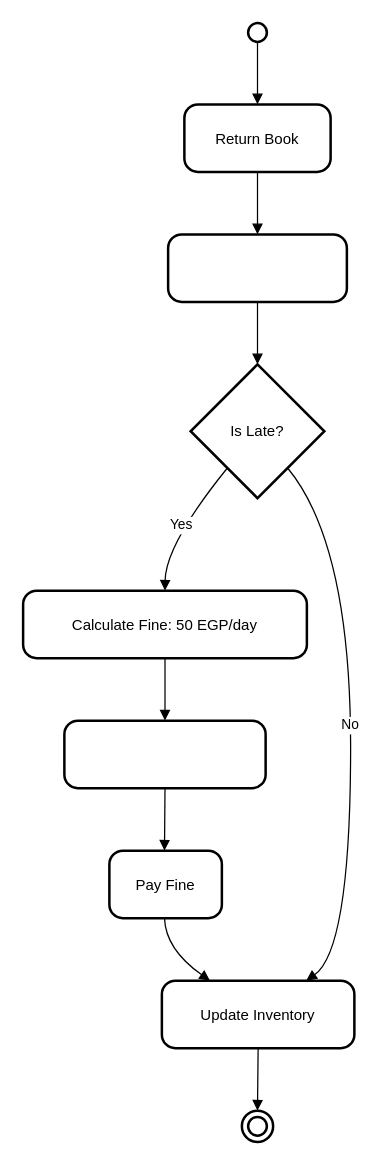
Image size: 381x1164. Some labels were removed from this diagram. Here are the shapes that lost their labels. From the top down, the centre of each, then its label:
At pixel 257 267: "Check Due Date".
At pixel 164 754: "Show Fine Amount".
